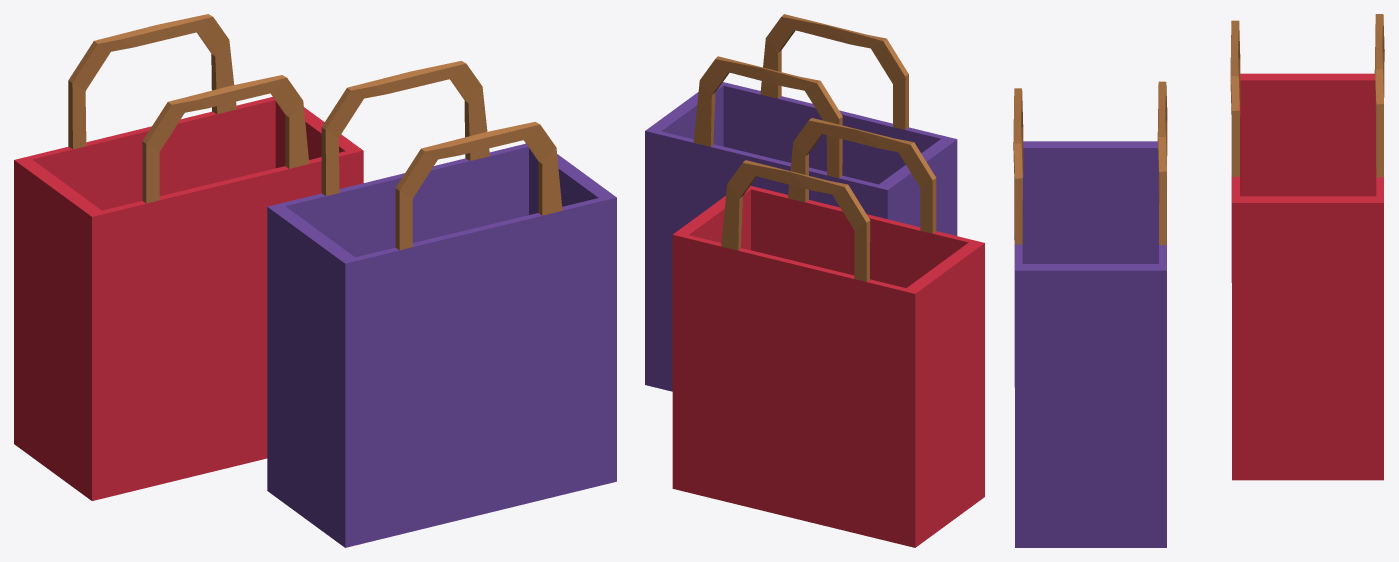
File: retail_trade.gltf
3 renders of one model, left to right at view 1: azimuth 30°, elevation 25°; view 2: azimuth 150°, elevation 25°; view 3: azimuth 270°, elevation 25°, orthographic. The views are drawn at different scales.
Parts seen in each view (by area): view 1: Retail Trade; view 2: Retail Trade; view 3: Retail Trade.
Part boxes in pixels (left/top/right/bottom): Retail Trade: left=14, top=14, right=616, bottom=547; Retail Trade: left=645, top=14, right=984, bottom=547; Retail Trade: left=1013, top=14, right=1384, bottom=547.
Size of the model in its own units: 1.16 by 1.03 by 0.9239.
1 material, 1 textured.
